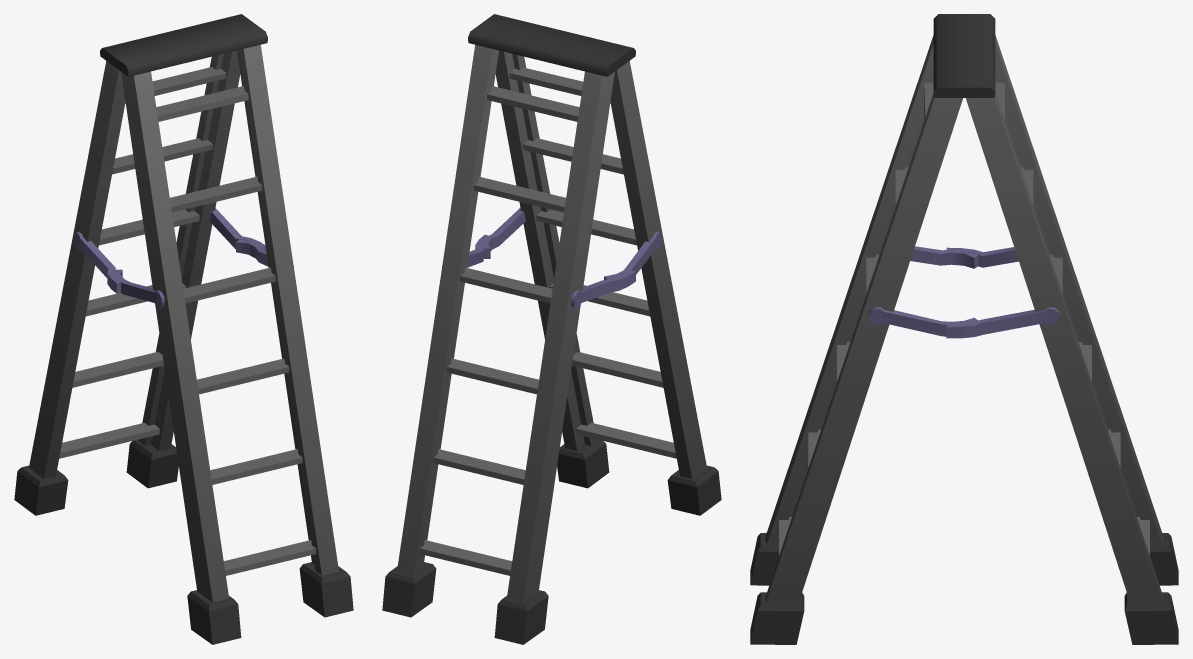
The model's file is Ladder_1_1.fbx.
3 renders of one model, left to right at view 1: azimuth 30°, elevation 25°; view 2: azimuth 150°, elevation 25°; view 3: azimuth 270°, elevation 25°, orthographic. The views are drawn at different scales.
Visible parts, largest first — view 1: Ladder_1_1; view 2: Ladder_1_1; view 3: Ladder_1_1.
Part boxes in pixels (box(x1,y1,x2,y2)): Ladder_1_1: box(14, 14, 353, 644); Ladder_1_1: box(382, 14, 721, 644); Ladder_1_1: box(750, 14, 1178, 644).
Bounding box in the file's own units: 55.92 × 182 × 127.
